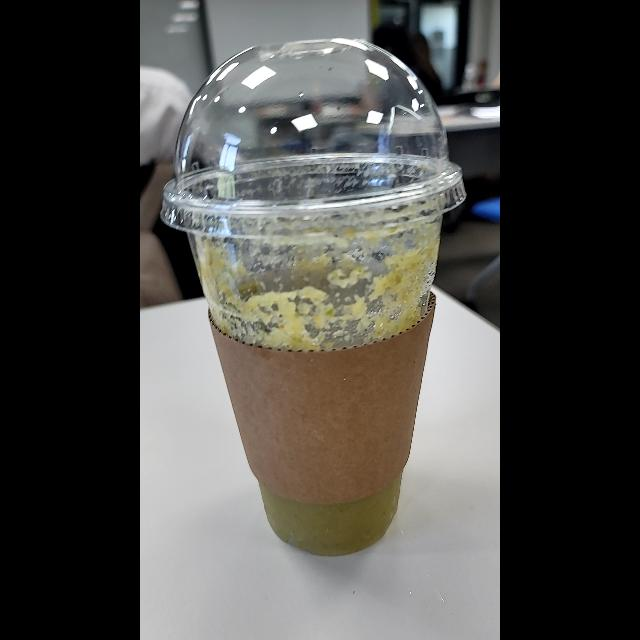plastic_cup: (158, 22, 462, 570)
plastic_cup_lid: (160, 40, 462, 242)
